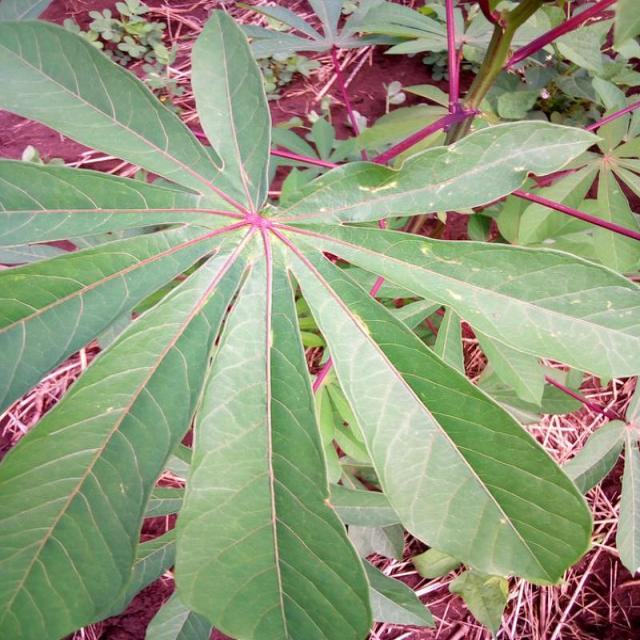cassava leaf: (0, 6, 638, 638)
